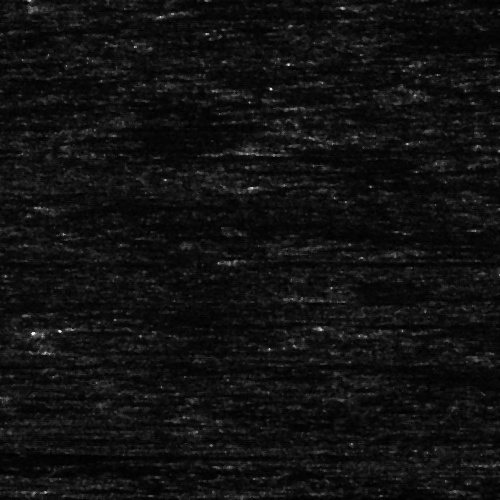object: (264, 290, 347, 301), (226, 145, 319, 154), (58, 124, 141, 133), (188, 256, 261, 265), (286, 322, 369, 329), (138, 8, 201, 17), (9, 346, 82, 353), (57, 200, 110, 209), (361, 249, 434, 254), (0, 393, 17, 398), (0, 451, 7, 456)
shadow: (224, 256, 489, 265), (83, 200, 341, 209), (306, 290, 500, 301), (273, 145, 500, 154), (0, 451, 388, 456), (46, 346, 302, 353), (169, 8, 350, 17), (99, 124, 274, 133), (327, 322, 418, 329), (0, 357, 55, 366), (397, 249, 489, 254), (2, 393, 84, 398)
